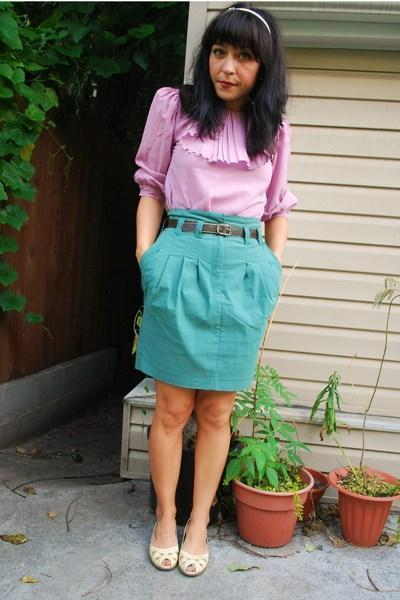shirt: (134, 87, 283, 235)
shoe: (156, 540, 208, 573)
skirt: (132, 213, 288, 395)
